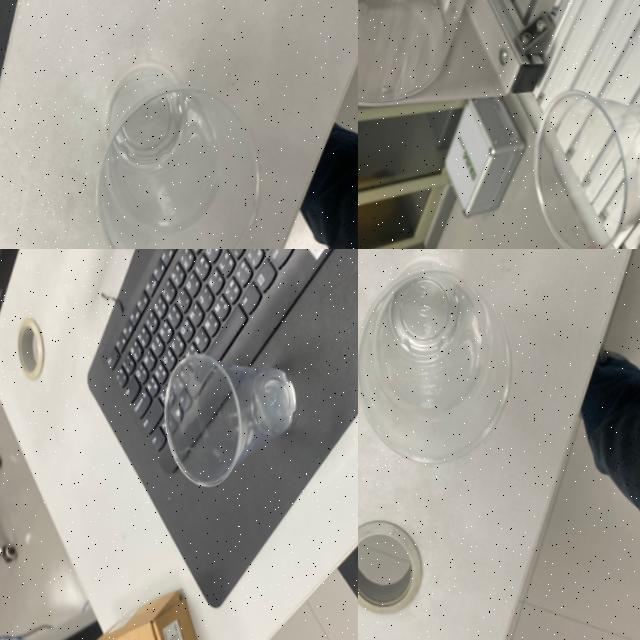glass: (77, 41, 287, 249), (358, 249, 538, 479), (150, 328, 316, 497), (520, 59, 640, 249)
